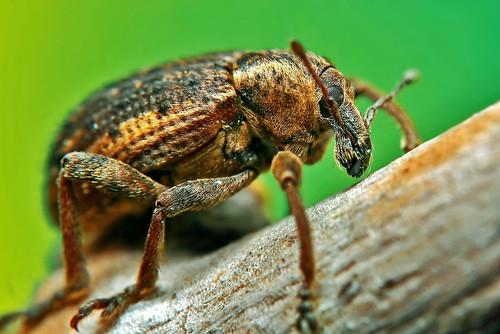weevils: (10, 8, 447, 334)
